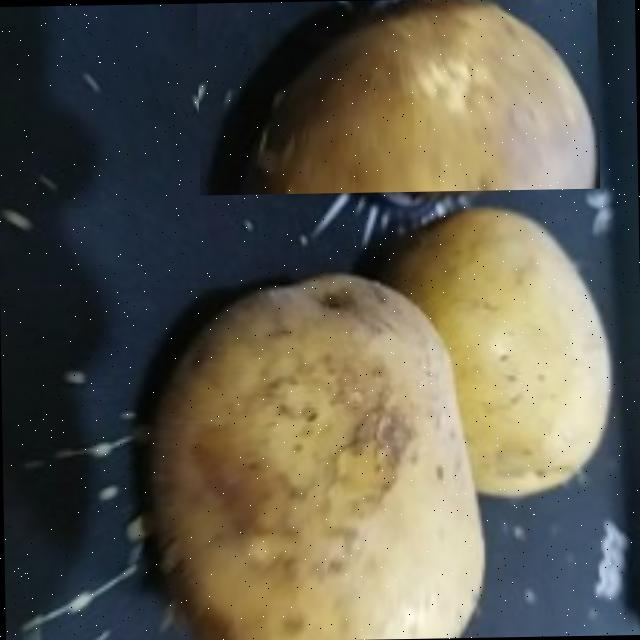Damaged potato: (128, 266, 489, 640), (196, 0, 599, 194)
Potato: (379, 209, 612, 505)
